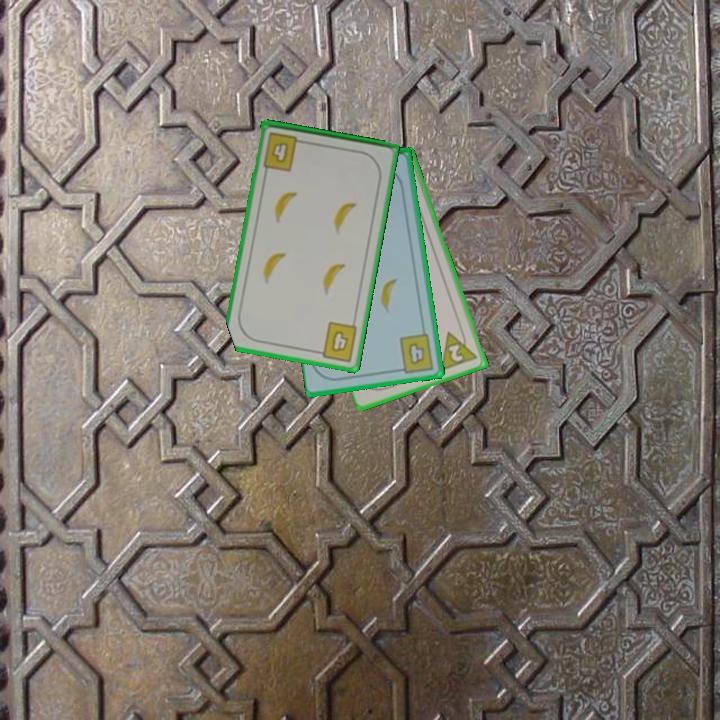2p: (437, 324, 481, 374)
4b: (312, 318, 361, 365), (260, 128, 308, 174), (394, 330, 437, 376)
